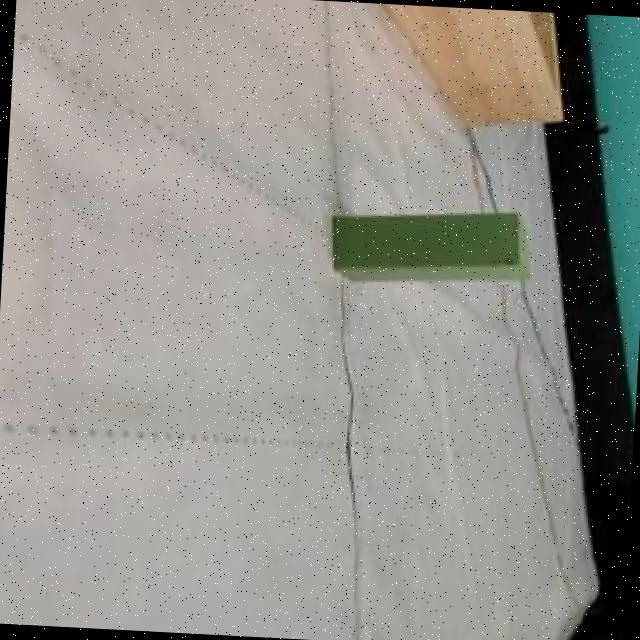greenbox: (331, 200, 533, 294)
